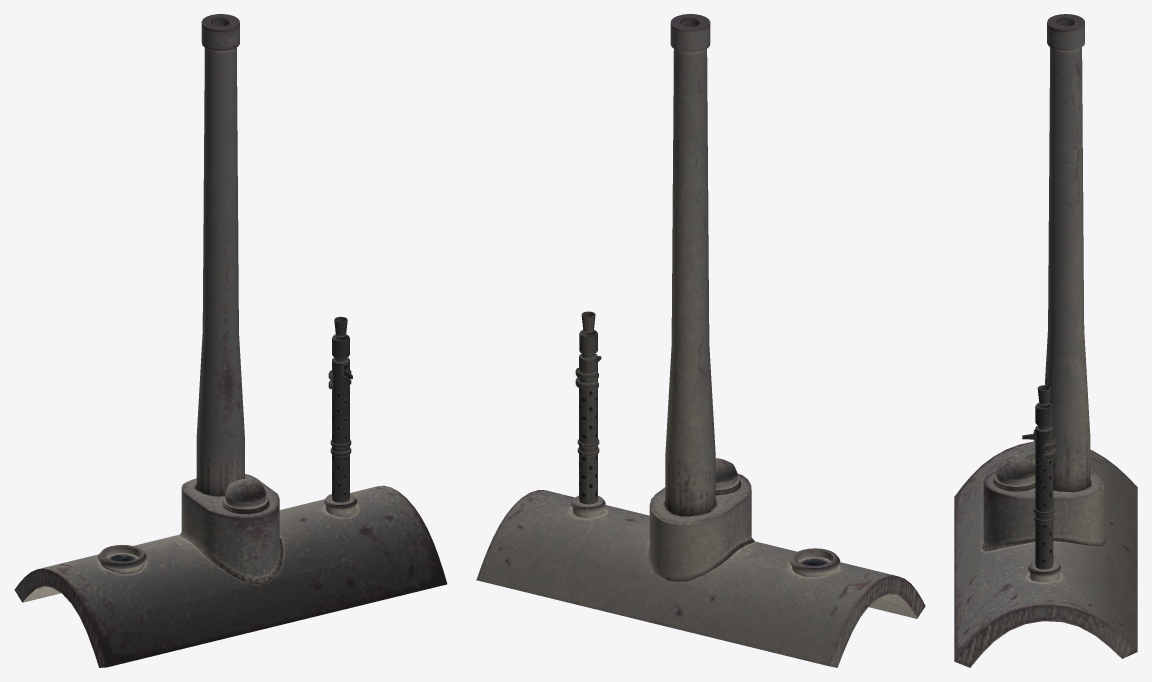
Rendered from Gun_01.glb.
3 renders of one model, left to right at view 1: azimuth 30°, elevation 25°; view 2: azimuth 150°, elevation 25°; view 3: azimuth 270°, elevation 25°, orthographic. The views are drawn at different scales.
Parts seen in each view (by area): view 1: set_0_group_0; view 2: set_0_group_0; view 3: set_0_group_0.
Part boxes in pixels (x1,y1,x2,y2): set_0_group_0: [14, 14, 447, 667]; set_0_group_0: [476, 14, 925, 667]; set_0_group_0: [954, 14, 1137, 667].
Bounding box in the file's own units: 0.8065 × 1.29 × 0.3803.
Materials: 1 (1 with a texture image).
